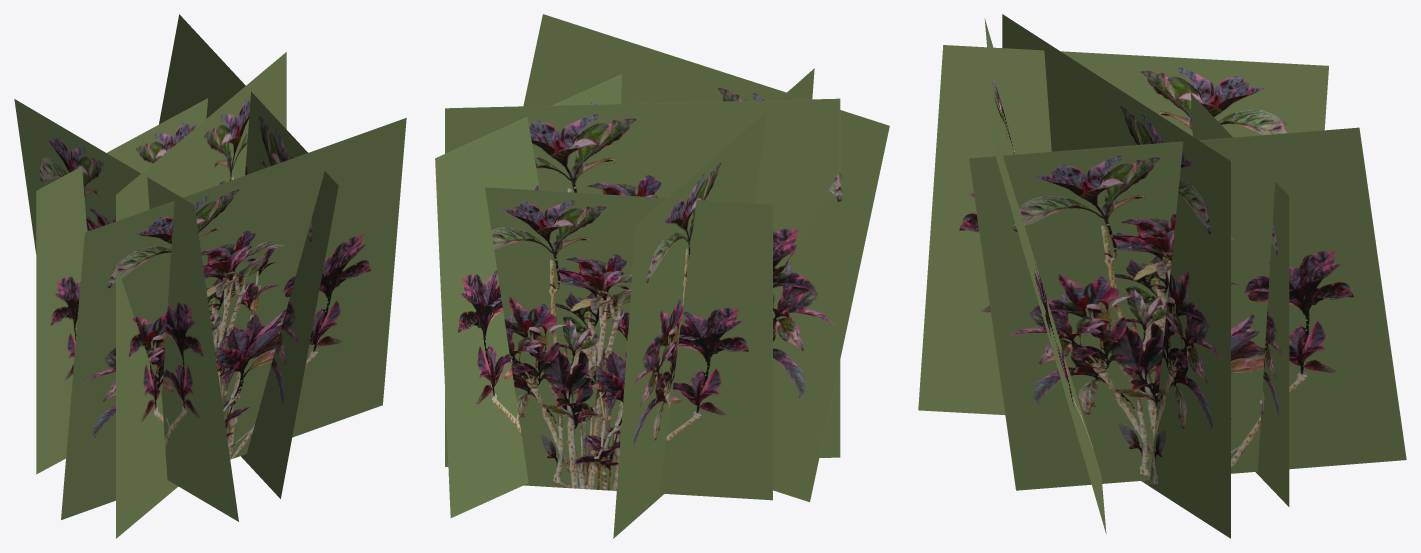
File: gs_bush33.glb
The picture shows the model from 3 angles, left to right: view 1: azimuth 30°, elevation 25°; view 2: azimuth 150°, elevation 25°; view 3: azimuth 270°, elevation 25°; orthographic projection. The views are drawn at different scales.
Visible parts, largest first — view 1: Plane01; view 2: Plane01; view 3: Plane01.
Boxes of the visible parts, x1,y1,x2,y2 form: Plane01: (14, 14, 406, 538); Plane01: (435, 14, 889, 538); Plane01: (918, 14, 1406, 538).
Size of the model in its own units: 75.31 by 73.64 by 82.05.
Materials: 1 (1 with a texture image).
